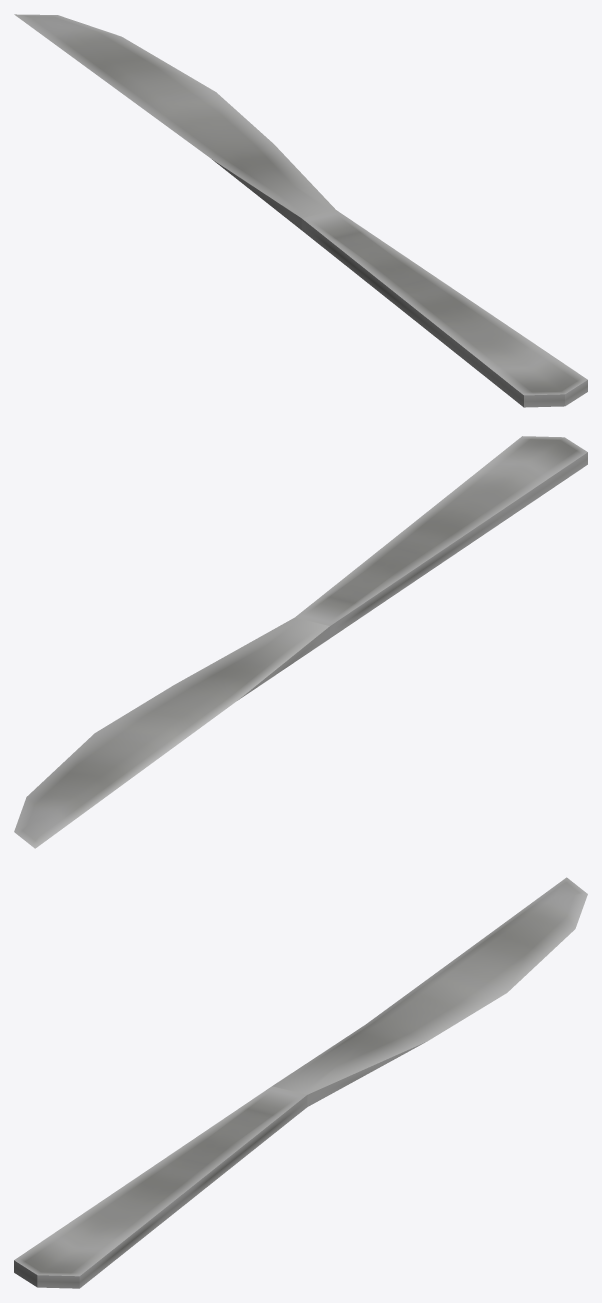
Rendered from KR_Knife_01_01.fbx.
3 renders of one model, top to bottom at view 1: azimuth 30°, elevation 25°; view 2: azimuth 150°, elevation 25°; view 3: azimuth 330°, elevation 25°, orthographic. The views are drawn at different scales.
Parts seen in each view (by area): view 1: kr_knife_01_01; view 2: kr_knife_01_01; view 3: kr_knife_01_01.
Part boxes in pixels (x1,y1,x2,y2): kr_knife_01_01: [14, 14, 587, 407]; kr_knife_01_01: [14, 436, 587, 848]; kr_knife_01_01: [14, 877, 587, 1288].
Bounding box in the file's own units: 1.88 × 0.25 × 20.
